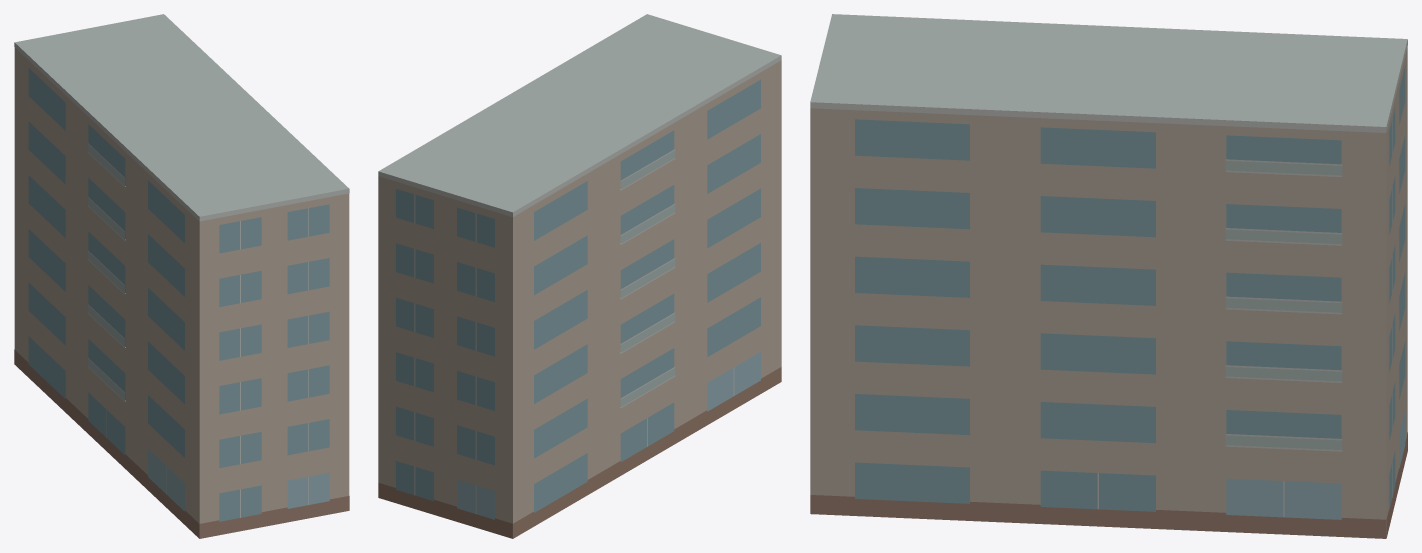
Rendered from survey-upis-32878944.glb.
3 views of the same model, side by side, from view 1: azimuth 30°, elevation 25°; view 2: azimuth 150°, elevation 25°; view 3: azimuth 270°, elevation 25° (orthographic). The views are drawn at different scales.
Parts seen in each view (by area): view 1: survey-upis-32878944.tmp; view 2: survey-upis-32878944.tmp; view 3: survey-upis-32878944.tmp.
Part boxes in pixels (left/top/right/bottom): survey-upis-32878944.tmp: left=14, top=14, right=349, bottom=538; survey-upis-32878944.tmp: left=378, top=14, right=781, bottom=538; survey-upis-32878944.tmp: left=810, top=14, right=1407, bottom=538.
Size of the model in its own units: 9.84 by 16.7 by 21.97.
